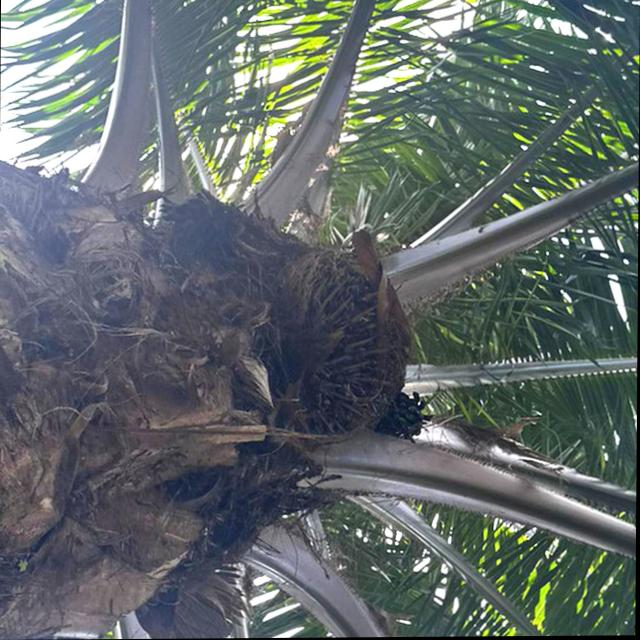ripe: (276, 237, 420, 453)
